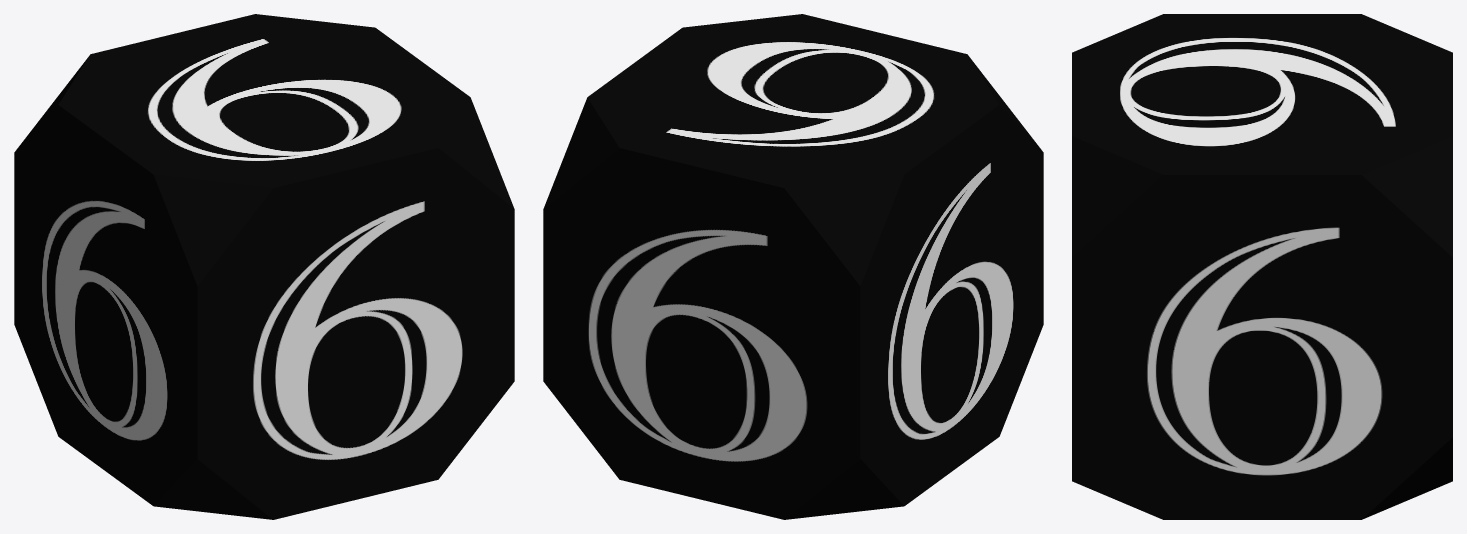
Rendered from BlockBase-6.fbx.
The picture shows the model from 3 angles, left to right: view 1: azimuth 30°, elevation 25°; view 2: azimuth 150°, elevation 25°; view 3: azimuth 270°, elevation 25°; orthographic projection. The views are drawn at different scales.
Visible parts, largest first — view 1: Cube.005; view 2: Cube.005; view 3: Cube.005.
Part boxes in pixels (x1,y1,x2,y2): Cube.005: [14, 14, 514, 519]; Cube.005: [543, 14, 1043, 519]; Cube.005: [1072, 14, 1452, 519].
Bounding box in the file's own units: 50 × 50 × 50.
1 material, 1 textured.
